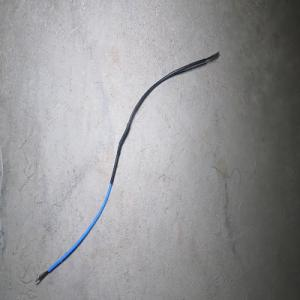Wire: (34, 50, 219, 284)
